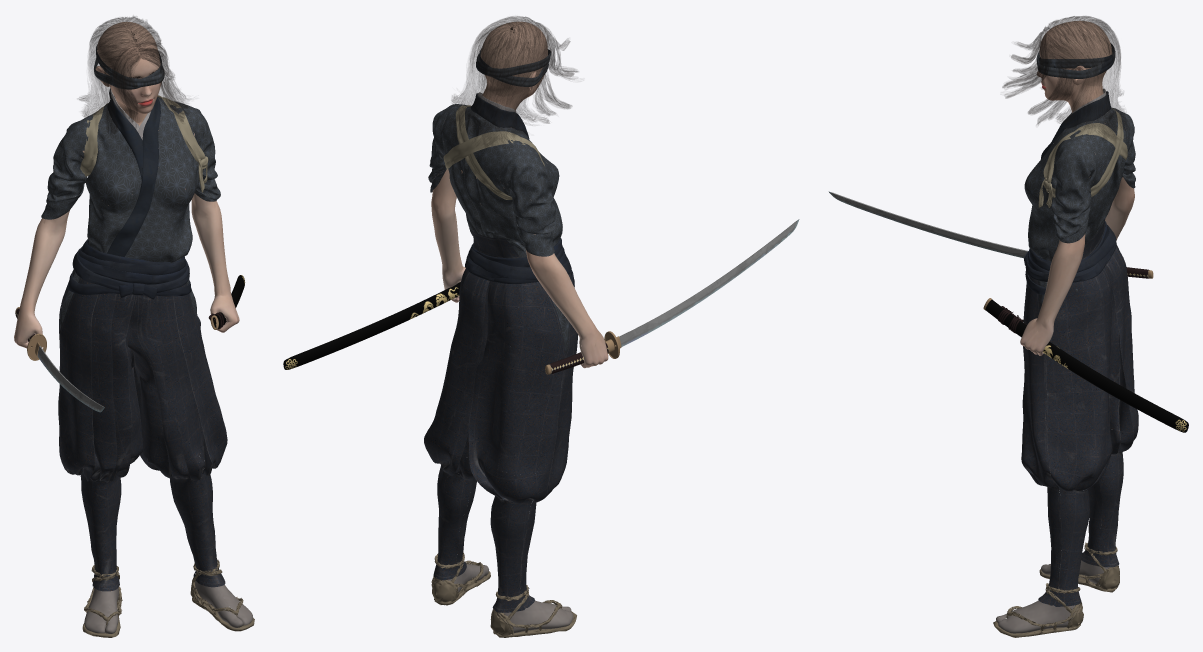
The model's file is samurai-girl-web.glb.
3 renders of one model, left to right at view 1: azimuth 30°, elevation 25°; view 2: azimuth 150°, elevation 25°; view 3: azimuth 270°, elevation 25°, orthographic. The views are drawn at different scales.
Visible parts, largest first — view 1: Object_34, Object_32, Object_21, Object_30, Object_31, Object_33, Object_20, Object_27, Object_35, Object_40, Object_41, Object_7 (+19 smaller); view 2: Object_34, Object_33, Object_30, Object_31, Object_32, Object_21, Object_40, Object_100, Object_24, Object_41, Object_15, Object_35 (+15 smaller); view 3: Object_32, Object_31, Object_30, Object_33, Object_41, Object_22, Object_21, Object_15, Object_34, Object_58, Object_37, Object_23 (+18 smaller).
Part boxes in pixels (x1=…): Object_34: x1=58, y1=304, x2=142, y2=468; Object_32: x1=93, y1=307, x2=226, y2=591; Object_21: x1=85, y1=97, x2=203, y2=221; Object_30: x1=60, y1=269, x2=225, y2=587; Object_31: x1=140, y1=437, x2=227, y2=583; Object_33: x1=59, y1=441, x2=142, y2=585; Object_20: x1=87, y1=199, x2=192, y2=262; Object_27: x1=107, y1=88, x2=160, y2=256; Object_35: x1=75, y1=239, x2=189, y2=293; Object_40: x1=14, y1=157, x2=82, y2=348; Object_41: x1=191, y1=193, x2=239, y2=332; Object_7: x1=104, y1=36, x2=161, y2=113; Object_34: x1=468, y1=323, x2=578, y2=474; Object_33: x1=469, y1=456, x2=566, y2=612; Object_30: x1=457, y1=268, x2=571, y2=572; Object_31: x1=424, y1=427, x2=476, y2=580; Object_32: x1=427, y1=323, x2=534, y2=607; Object_21: x1=434, y1=104, x2=556, y2=217; Object_40: x1=525, y1=234, x2=608, y2=368; Object_100: x1=461, y1=21, x2=542, y2=217; Object_24: x1=487, y1=144, x2=559, y2=200; Object_41: x1=431, y1=169, x2=465, y2=302; Object_15: x1=283, y1=282, x2=460, y2=369; Object_35: x1=466, y1=230, x2=570, y2=280; Object_32: x1=1021, y1=303, x2=1112, y2=564; Object_31: x1=1021, y1=446, x2=1111, y2=606; Object_30: x1=1024, y1=245, x2=1128, y2=604; Object_33: x1=1084, y1=410, x2=1138, y2=567; Object_41: x1=1020, y1=234, x2=1085, y2=354; Object_22: x1=1024, y1=108, x2=1115, y2=309; Object_21: x1=1030, y1=108, x2=1132, y2=220; Object_15: x1=985, y1=299, x2=1188, y2=432; Object_34: x1=1109, y1=294, x2=1137, y2=430; Object_58: x1=1002, y1=27, x2=1074, y2=124; Object_37: x1=996, y1=560, x2=1112, y2=633; Object_23: x1=1051, y1=182, x2=1091, y2=243.
Size of the model in its own units: 1.03 by 1.81 by 1.03.
Materials: 51 (38 with a texture image).
